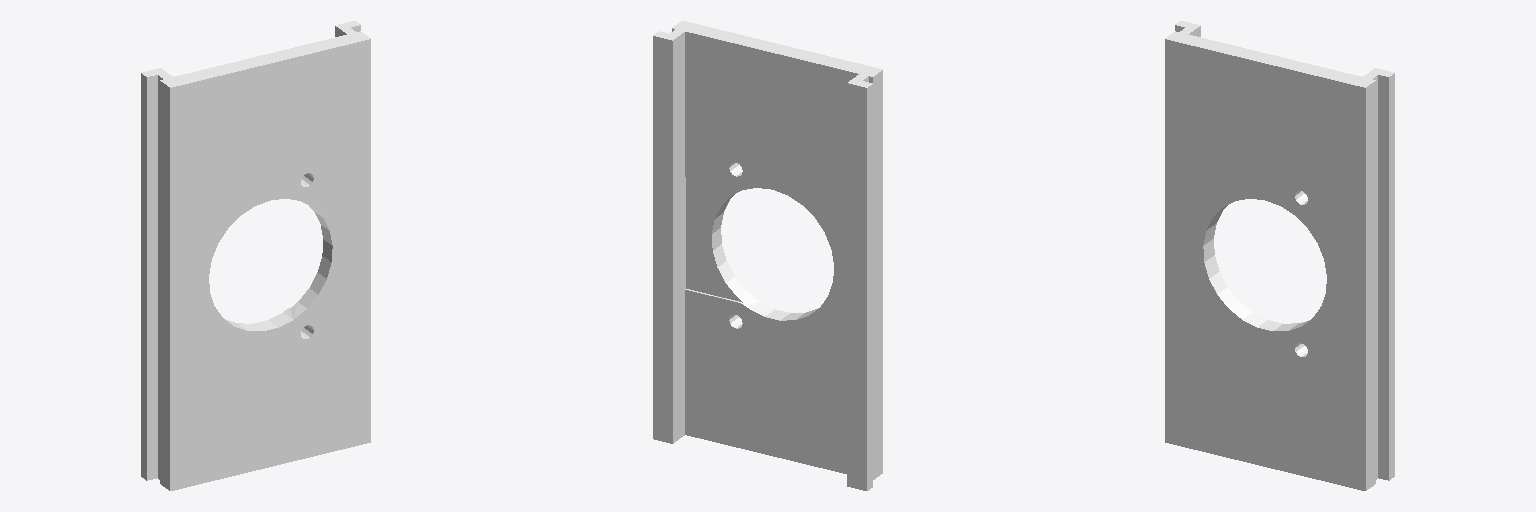
robot.urdf — cube.urdf:
<?xml version="0.0" ?>
<robot name="cube.urdf">
  <link name="baseLink">
    <contact>
      <lateral_friction value="1.0"/>
      <rolling_friction value="1.0"/>
      <inertia_scaling value="3.0"/>
      <contact_cfm value="0.0"/>
      <contact_erp value="1.0"/>
    </contact>
    <inertial>
      <origin rpy="0 0 0" xyz="0 0 0"/>
       <mass value="0"/>
       <inertia ixx="1" ixy="0" ixz="0" iyy="1" iyz="0" izz="1"/>
    </inertial>
    <visual>
      <origin rpy="0 0 0" xyz="0 0 0"/>
      <geometry>
				<mesh filename="wall_opening.obj" scale=".03 .03 .03"/>
      </geometry>
       <material name="white">
        <color rgba="1 1 1 1"/>
      </material>
    </visual>
    <collision concave="yes">
      <origin rpy="0 0 0" xyz="0 0 0"/>
      <geometry>
	 	<mesh filename="wall_opening.obj" scale=".03 .03 .03"/>
      </geometry>
    </collision>
  </link>
</robot>

--- What the picture shows (computed from the rendered views, not written in the file) ---
The picture shows the robot from 3 angles, left to right: view 1: azimuth 30°, elevation 25°; view 2: azimuth 150°, elevation 25°; view 3: azimuth 330°, elevation 25°; orthographic projection.
Robot: cube.urdf — 1 links, 0 joints (none); root link baseLink; default pose: every joint at zero.
Links seen in each view (by area): view 1: baseLink; view 2: baseLink; view 3: baseLink.
Boxes of the visible links, x1,y1,x2,y2 form: baseLink: [141, 21, 370, 490]; baseLink: [653, 21, 882, 490]; baseLink: [1165, 21, 1394, 490].
Size in the robot's own frame: 1.2 by 0.2217 by 2.15 metres.
1 mesh visuals loaded from 1 distinct referenced files (1 OBJ).